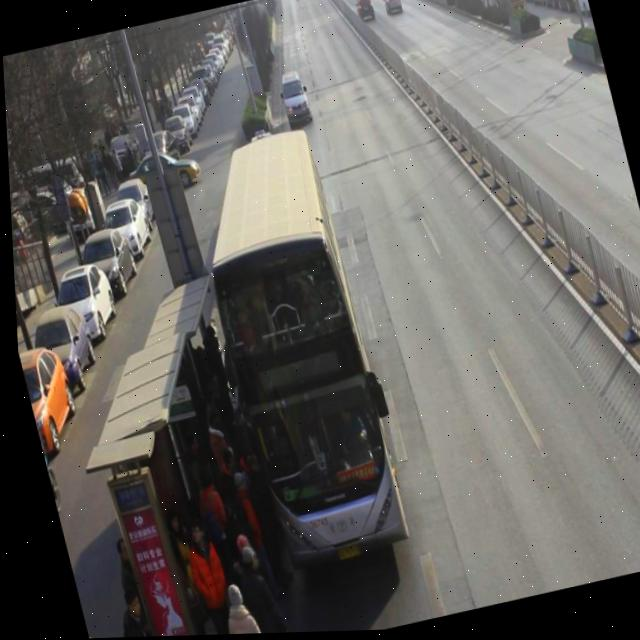truck: (278, 70, 314, 130)
van: (180, 125, 406, 569)
